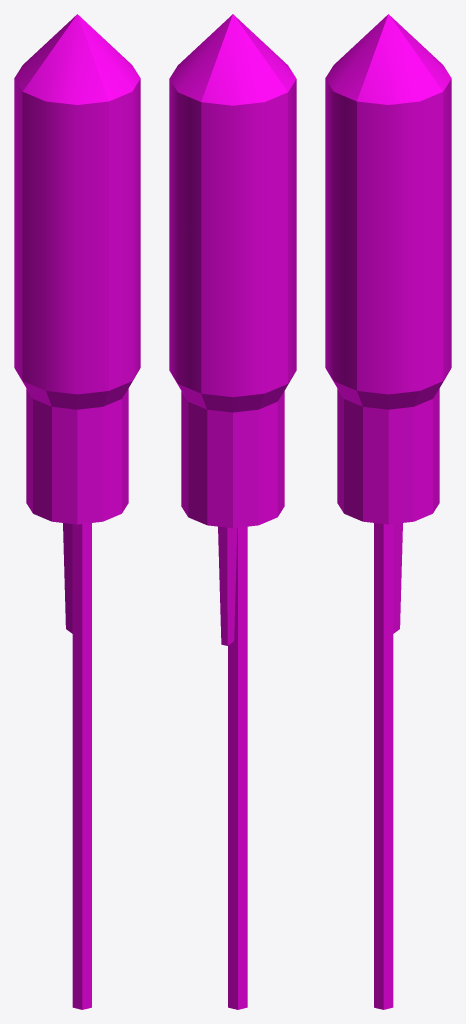
The model's file is firework.fbx.
The picture shows the model from 3 angles, left to right: view 1: azimuth 30°, elevation 25°; view 2: azimuth 150°, elevation 25°; view 3: azimuth 330°, elevation 25°; orthographic projection.
Parts seen in each view (by area): view 1: firework; view 2: firework; view 3: firework.
Part boxes in pixels (x1,y1,x2,y2): firework: (14, 14, 140, 1009); firework: (169, 14, 296, 1009); firework: (325, 14, 451, 1009).
Bounding box in the file's own units: 5 × 43.1 × 5.
